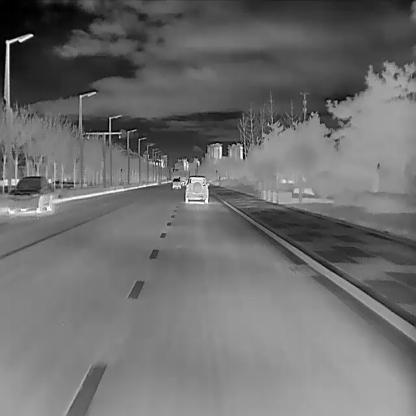car: (7, 175, 54, 212), (185, 176, 209, 203), (172, 179, 180, 189)
